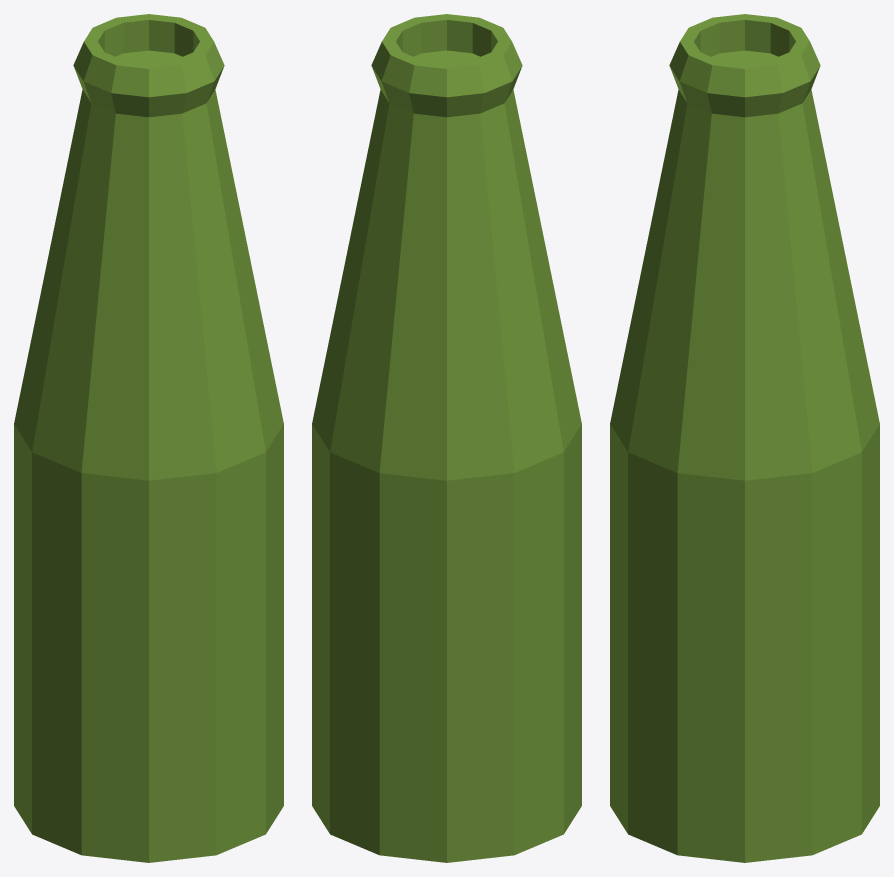
File: botol kaca.fbx
3 renders of one model, left to right at view 1: azimuth 30°, elevation 25°; view 2: azimuth 150°, elevation 25°; view 3: azimuth 270°, elevation 25°, orthographic.
Visible parts, largest first — view 1: glass_bottle; view 2: glass_bottle; view 3: glass_bottle.
Part boxes in pixels (left/top/right/bottom): glass_bottle: left=14, top=14, right=283, bottom=862; glass_bottle: left=312, top=14, right=581, bottom=862; glass_bottle: left=610, top=14, right=879, bottom=862.
Size of the model in its own units: 8 by 25 by 8.
